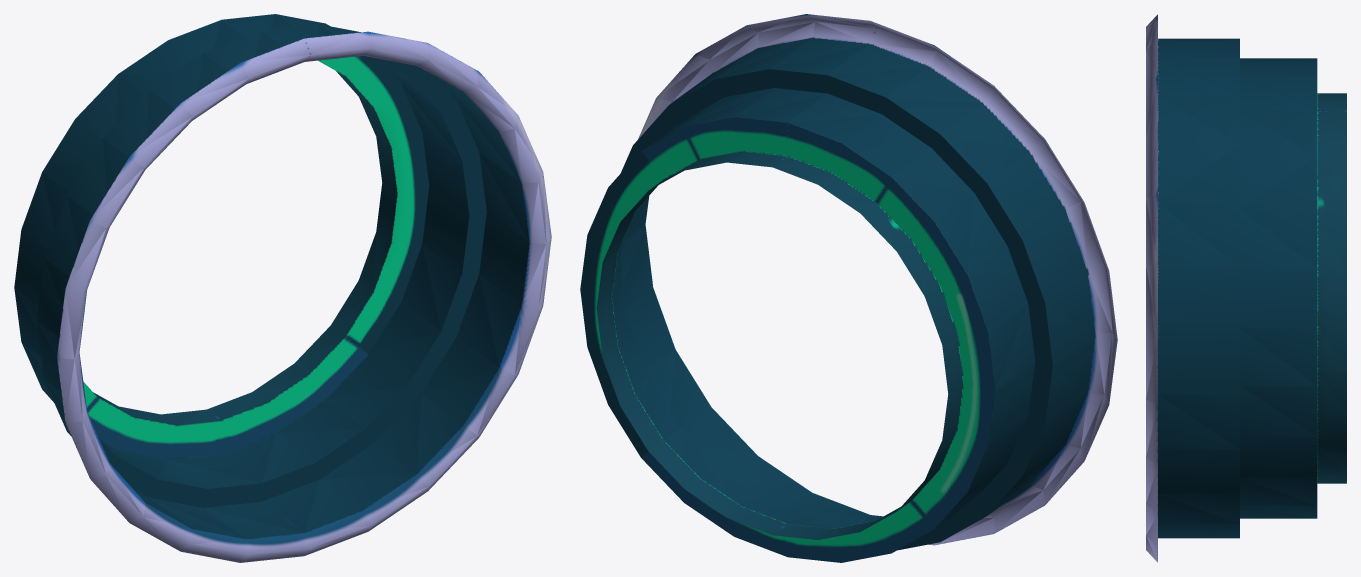
The model's file is Perforated_wall_txt123.dae.
The picture shows the model from 3 angles, left to right: view 1: azimuth 30°, elevation 25°; view 2: azimuth 150°, elevation 25°; view 3: azimuth 270°, elevation 25°; orthographic projection. The views are drawn at different scales.
Parts seen in each view (by area): view 1: Round_corridor_cyberpunk_Traps_v3; view 2: Round_corridor_cyberpunk_Traps_v3; view 3: Round_corridor_cyberpunk_Traps_v3.
Boxes of the visible parts, x1,y1,x2,y2 form: Round_corridor_cyberpunk_Traps_v3: [14, 14, 551, 562]; Round_corridor_cyberpunk_Traps_v3: [580, 14, 1117, 562]; Round_corridor_cyberpunk_Traps_v3: [1146, 14, 1346, 562].
Bounding box in the file's own units: 10.85 × 3.95 × 10.85.
